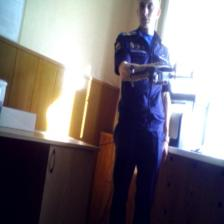drone: (124, 58, 197, 96)
